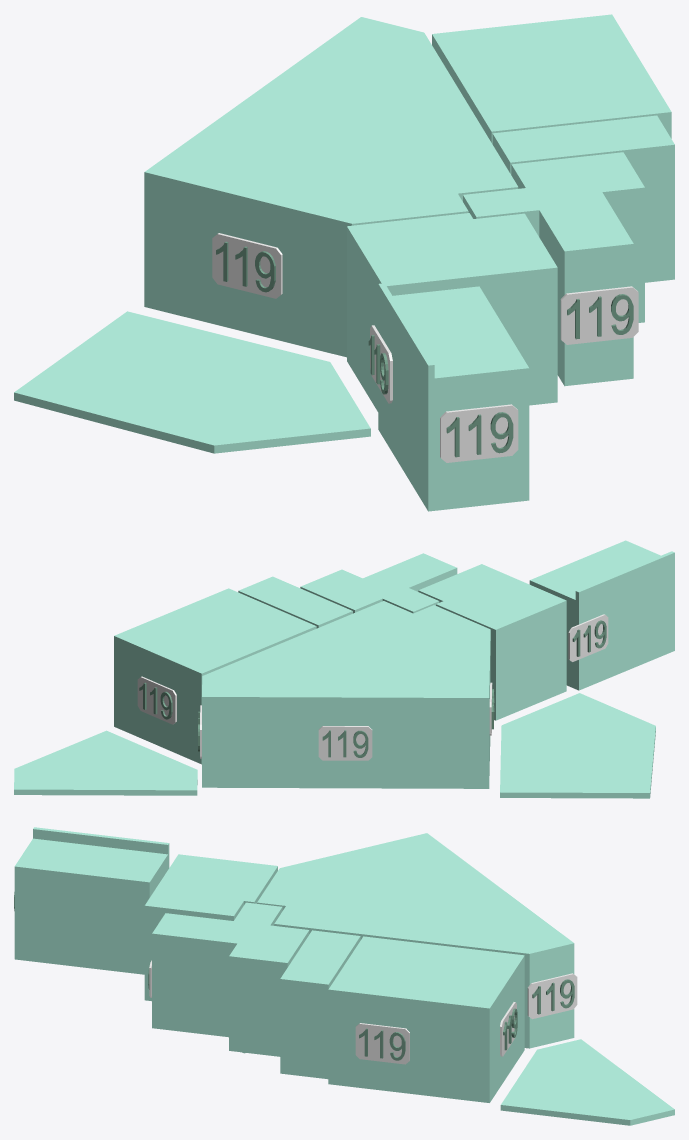
3 views of the same model, one above another, from view 1: azimuth 30°, elevation 25°; view 2: azimuth 150°, elevation 25°; view 3: azimuth 270°, elevation 25° (orthographic). The views are drawn at different scales.
Parts seen in each view (by area): view 1: g_0, g_6, g_5, g_4, g_1, g_3, g_2, g_39, g_35, g_15, g_31; view 2: g_0, g_1, g_6, g_5, g_4, g_7, g_3, g_2, g_27, g_23, g_31; view 3: g_1, g_0, g_5, g_3, g_7, g_2, g_4, g_19, g_11.
Boxes of the visible parts, x1,y1,x2,y2 form: g_0: [144, 17, 518, 357]; g_6: [14, 311, 370, 453]; g_5: [378, 283, 529, 511]; g_4: [347, 213, 557, 411]; g_1: [432, 14, 671, 143]; g_3: [463, 152, 644, 386]; g_2: [492, 115, 674, 282]; g_39: [440, 404, 518, 462]; g_35: [560, 286, 638, 344]; g_15: [212, 233, 282, 298]; g_31: [370, 325, 392, 403]; g_0: [202, 601, 490, 788]; g_1: [114, 588, 316, 764]; g_6: [500, 693, 655, 798]; g_5: [529, 540, 674, 690]; g_4: [418, 564, 566, 720]; g_7: [14, 730, 197, 795]; g_3: [300, 553, 457, 613]; g_2: [238, 576, 352, 628]; g_27: [318, 726, 372, 760]; g_23: [137, 676, 176, 724]; g_31: [568, 614, 608, 661]; g_1: [328, 936, 524, 1102]; g_0: [257, 833, 574, 1048]; g_5: [14, 827, 169, 974]; g_3: [152, 902, 309, 1056]; g_7: [500, 1039, 674, 1125]; g_2: [280, 930, 360, 1079]; g_4: [144, 854, 277, 1001]; g_19: [355, 1023, 409, 1064]; g_11: [527, 973, 577, 1019].
Bounding box in the file's own units: 14.42 × 2.85 × 15.79.
